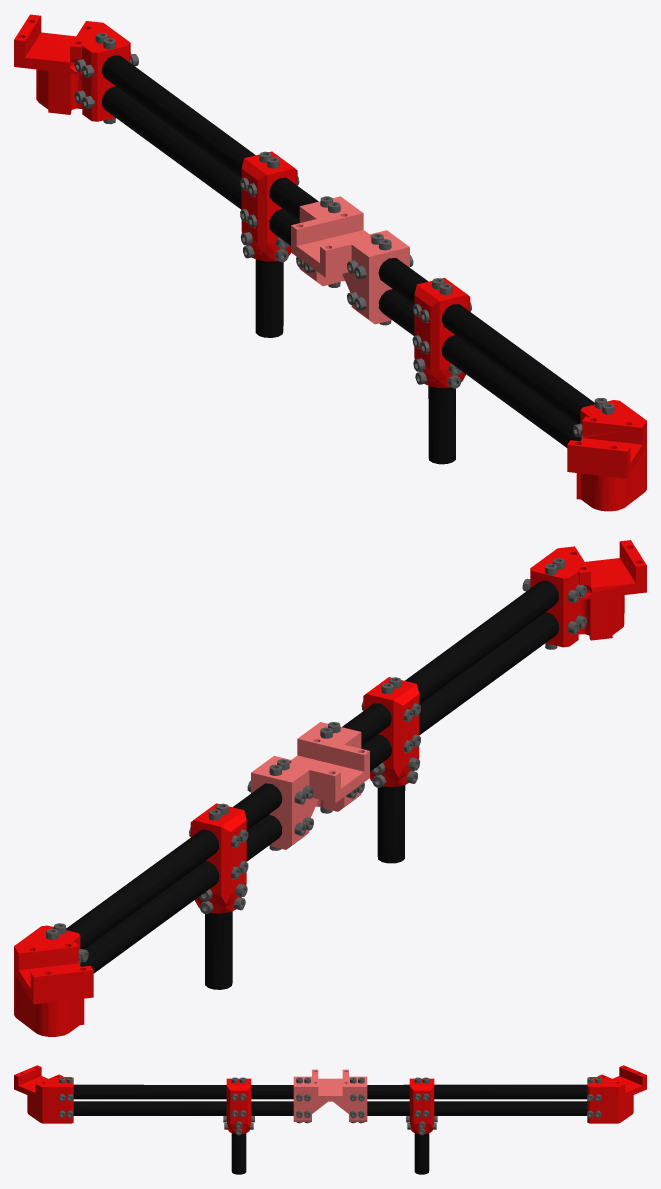
File: end_effector_fang_150.dae
3 views of the same model, one above another, from view 1: azimuth 30°, elevation 25°; view 2: azimuth 150°, elevation 25°; view 3: azimuth 270°, elevation 25° (orthographic). The views are drawn at different scales.
Parts seen in each view (by area): view 1: Shape_IndexedFaceSet.004; view 2: Shape_IndexedFaceSet.004; view 3: Shape_IndexedFaceSet.004.
Part boxes in pixels (x1=…): Shape_IndexedFaceSet.004: x1=14, y1=14, x2=646, y2=511; Shape_IndexedFaceSet.004: x1=14, y1=540, x2=646, y2=1036; Shape_IndexedFaceSet.004: x1=14, y1=1065, x2=646, y2=1174.
Bounding box in the file's own units: 0.0458 × 0.519 × 0.084.
